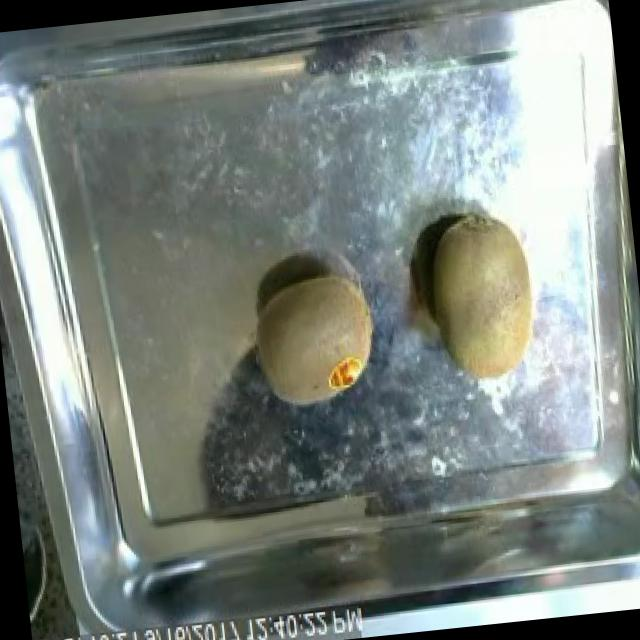Fruit: (412, 200, 556, 394), (241, 259, 389, 416)
